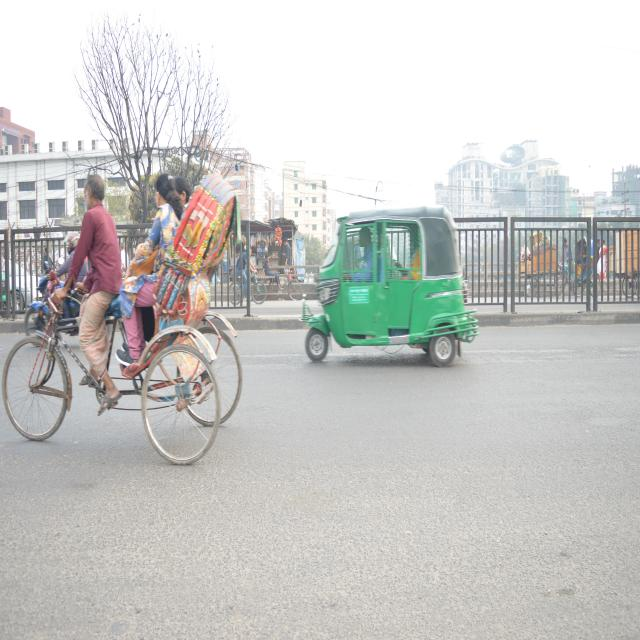motorbike: (13, 249, 92, 347)
